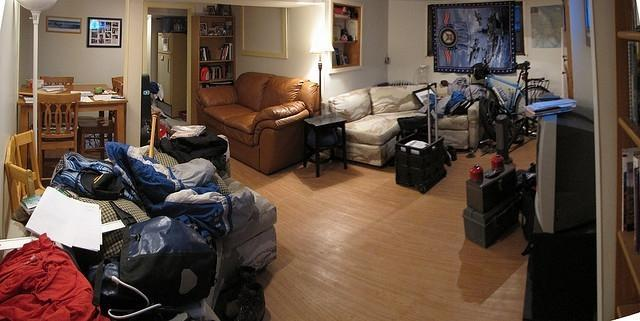bicycle: (466, 61, 552, 134)
